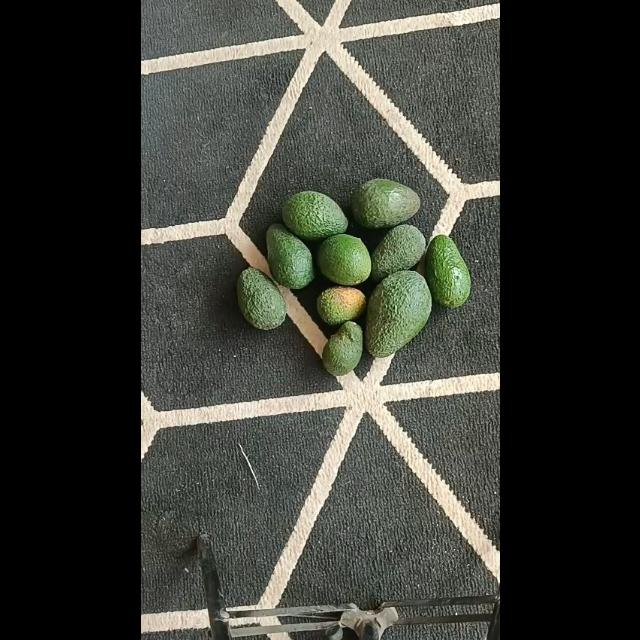Primera: (364, 270, 431, 356)
Segunda: (350, 178, 420, 230), (424, 235, 471, 308), (264, 222, 314, 290), (280, 191, 348, 241), (316, 233, 372, 285)
Tercera: (368, 223, 426, 280), (235, 268, 285, 329), (316, 284, 366, 326), (322, 322, 362, 374)
